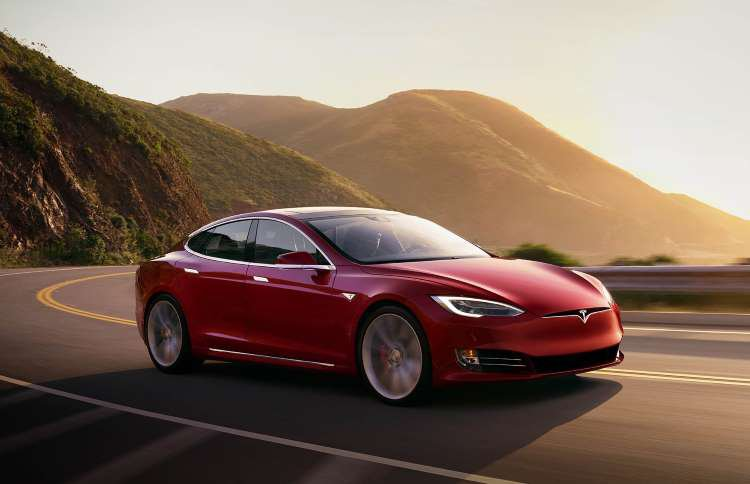car: (136, 203, 628, 395)
